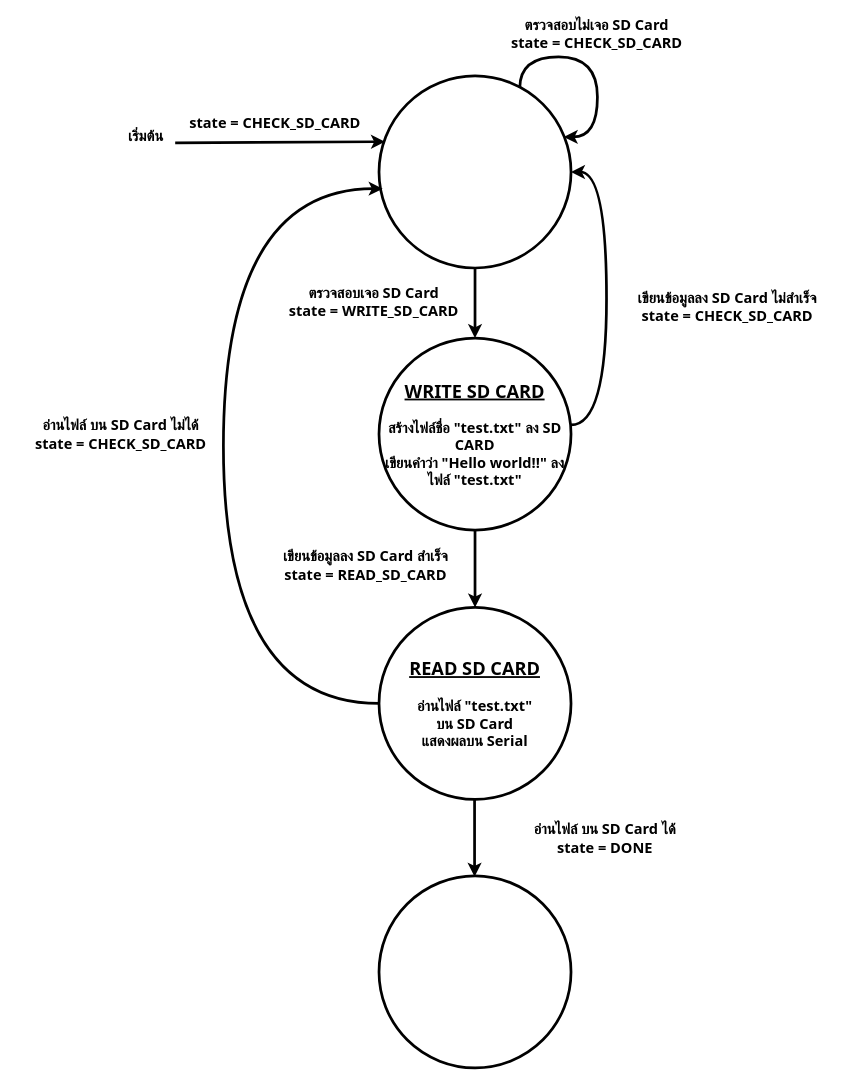
This 854x1085 diagram has some shape labels left out. The centre of each missing label's shape, as x and y in pixels:
"CHECK SD CARD ตรวจสอบการเชื่อมต่อ SD Card" belongs at (474,171).
"DONE จบการทำงาน" belongs at (474,971).
